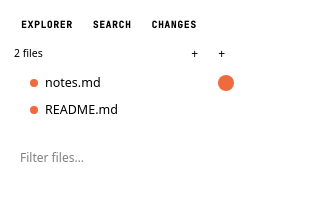
Test: D339 the Explorer header switches EXPLORER · SEARCH · CHANGES › lists CHANGES last; it swaps the tree for the project’s Changes
Check: the element named "Files of Shop" is shown, box [30,74,234,118]
Click the tab "CHANGES". click: {"x": 174, "y": 25}
box: [142,14,206,36]
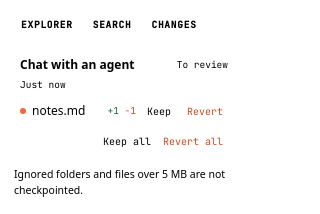
Click the tab "EXPLORER". click: {"x": 47, "y": 25}
box: [12,14,82,36]
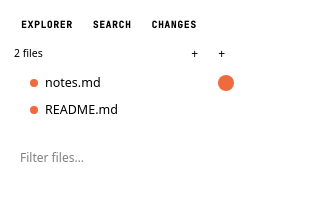
Check: the element named "Files of Shop" is shown, box [30,74,234,118]
